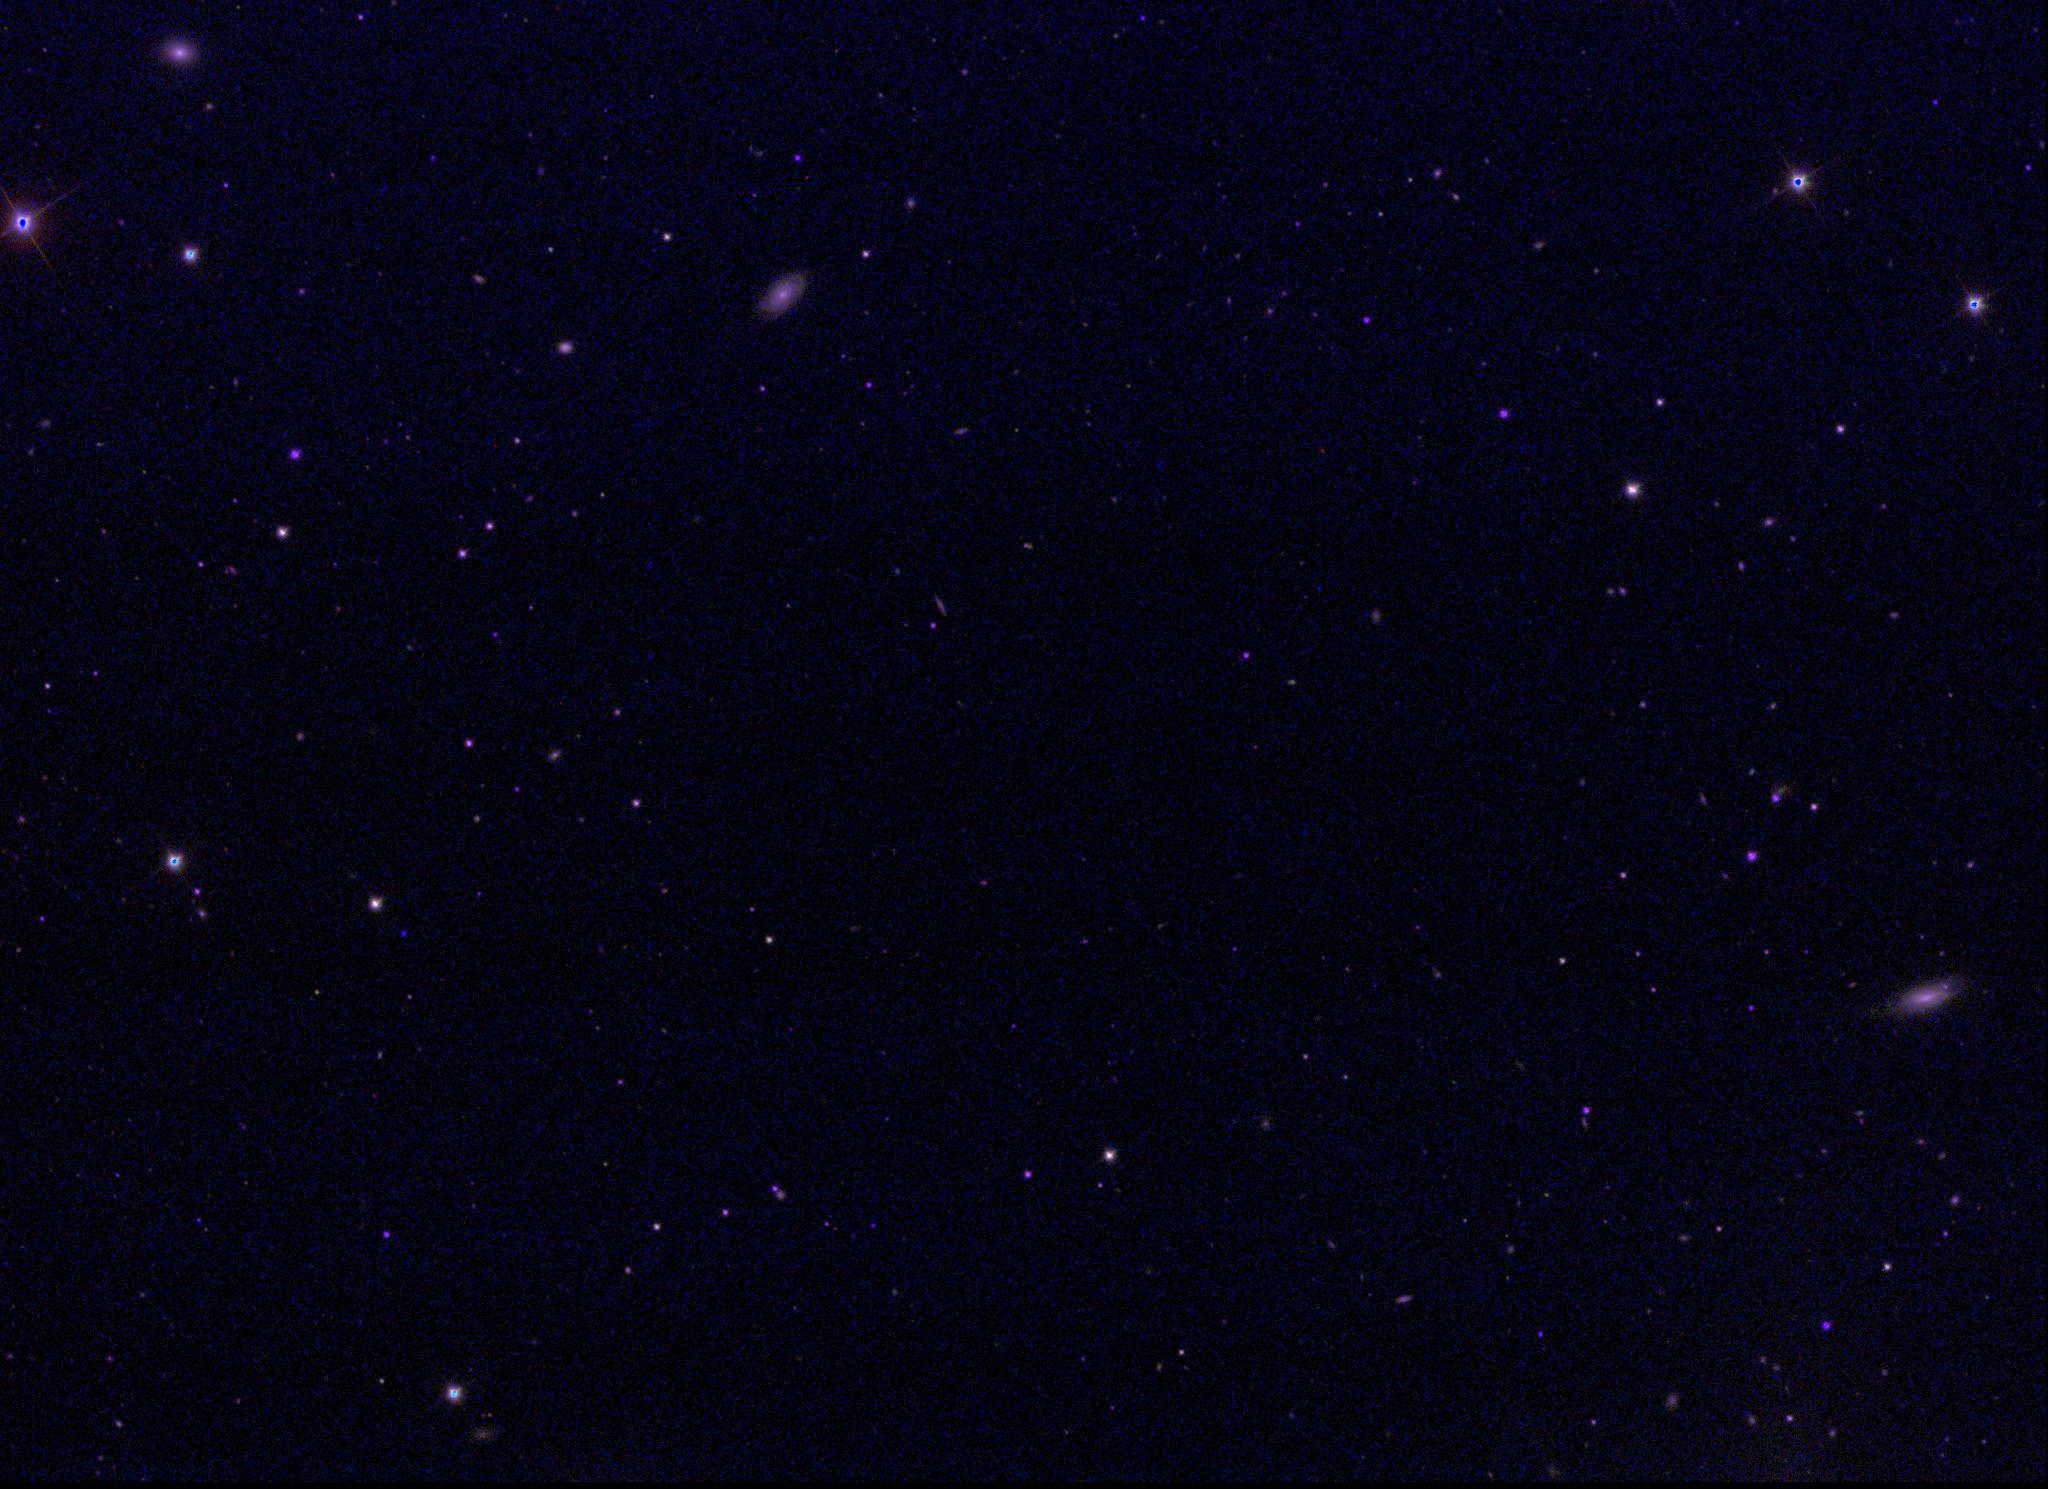L: (398, 927, 410, 942)
